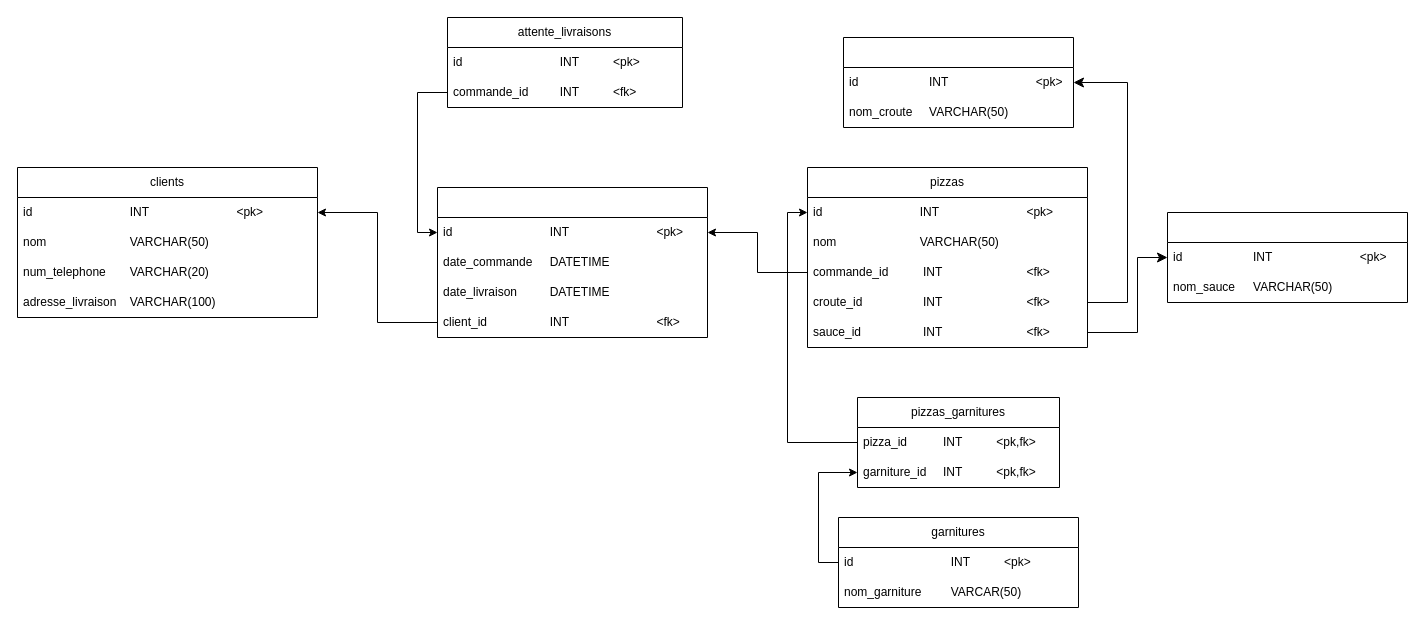
The diagram is 1425 pixels wide and 625 high, and some of its shapes have lost their labels. The box of each missing label's shape, as (x1, y1, x2, y2) in pixels:
commandes: (436, 186, 708, 338)
croutes: (842, 36, 1074, 128)
sauces: (1166, 212, 1408, 302)
